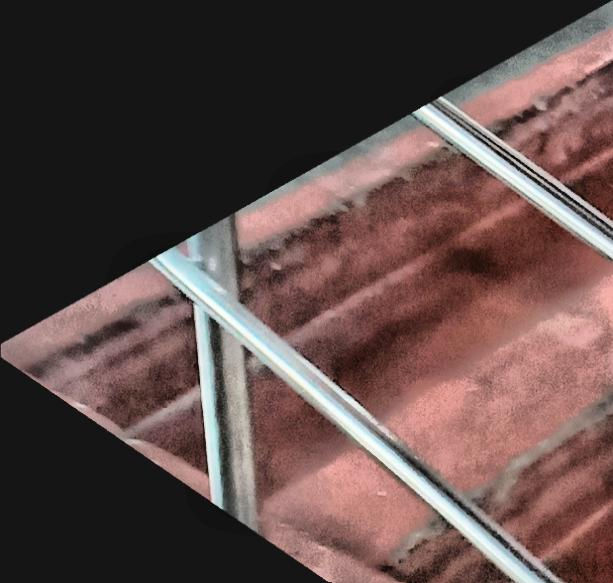stairs: (1, 0, 613, 582)
